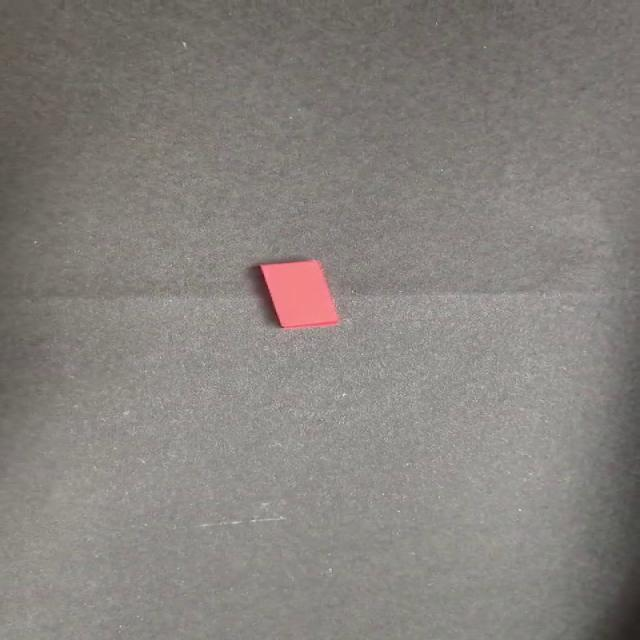red block: (257, 258, 340, 329)
